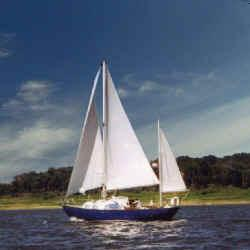Ship: (62, 58, 189, 220)
